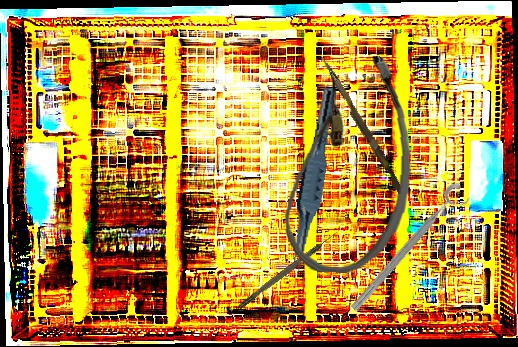Cannula: (280, 51, 417, 277)
Fixation Ring: (346, 180, 475, 321)
Hook Surgical: (237, 230, 339, 310)
Pusher: (315, 54, 408, 196)
Tissue Forceps: (286, 85, 338, 274)
